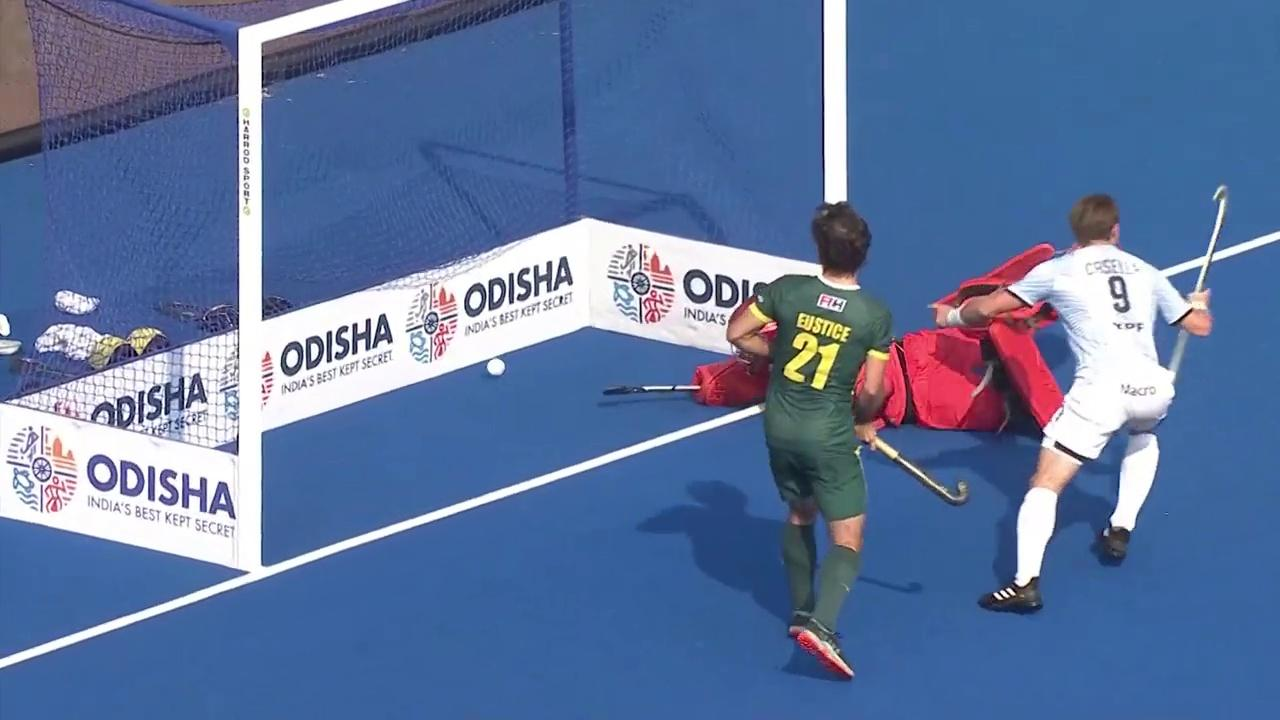ball: (475, 351, 517, 386)
